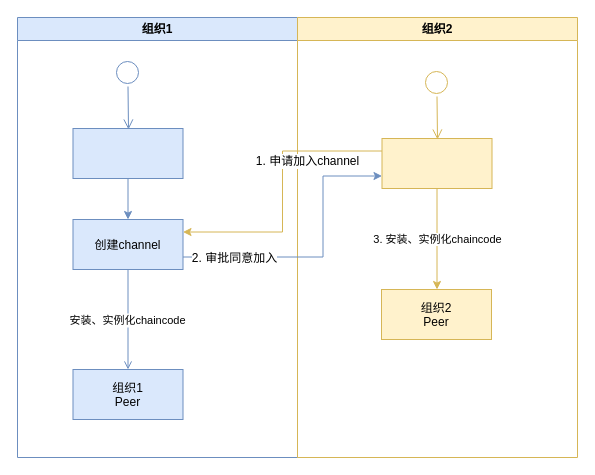
Some shapes in this 595 by 475 pixel diagram are drawn without their labels. The shapes that lost their labels are listed below. From the top down, each one's centre as x and y in pixels, then its label:
At point (127, 153): "组织1 BaaS平台".
At point (436, 163): "组织2 BaaS平台".
